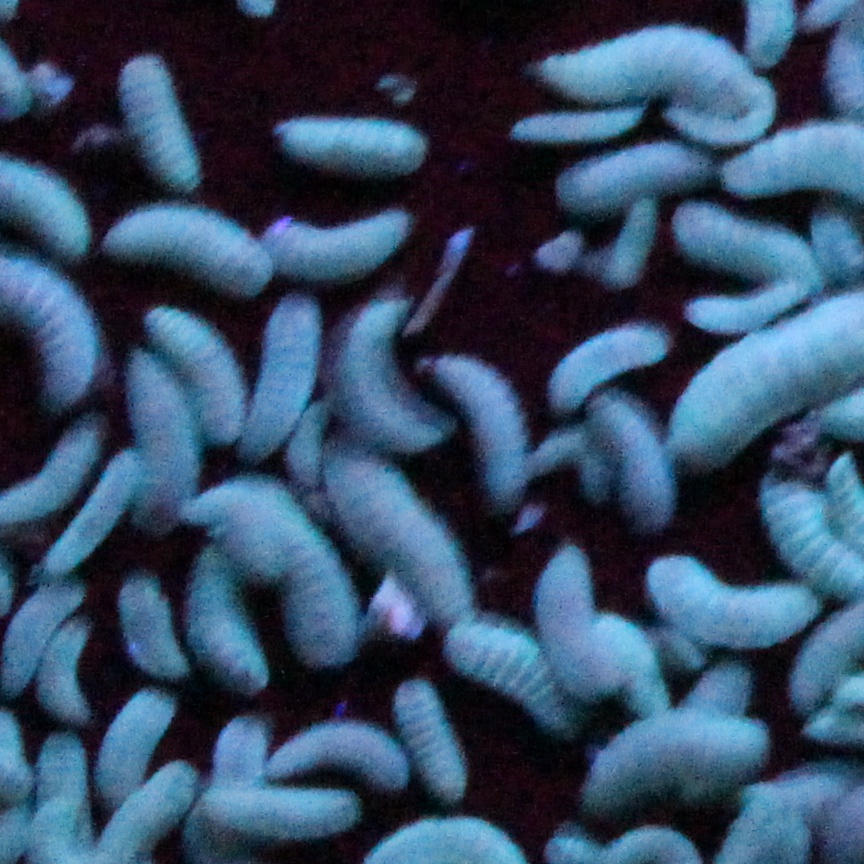larve: (524, 12, 746, 108), (268, 87, 434, 184), (96, 212, 270, 301), (110, 53, 204, 206), (323, 306, 430, 440), (127, 346, 199, 539), (577, 731, 749, 810), (271, 197, 423, 283), (366, 451, 445, 607), (273, 535, 362, 670), (462, 344, 529, 516), (677, 200, 814, 283), (662, 563, 792, 649), (277, 712, 410, 794), (679, 333, 855, 394), (180, 563, 265, 689), (247, 299, 308, 459), (106, 570, 180, 689), (612, 388, 670, 536), (545, 147, 710, 197), (437, 629, 548, 701), (545, 326, 678, 375), (219, 789, 369, 828), (556, 553, 599, 683), (198, 333, 245, 447), (511, 110, 653, 146), (607, 205, 658, 296), (57, 616, 94, 734), (81, 466, 111, 563), (11, 594, 43, 684), (680, 292, 801, 315), (411, 679, 433, 791)
